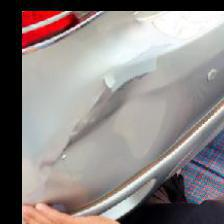bumper_dent: (47, 61, 193, 183)
